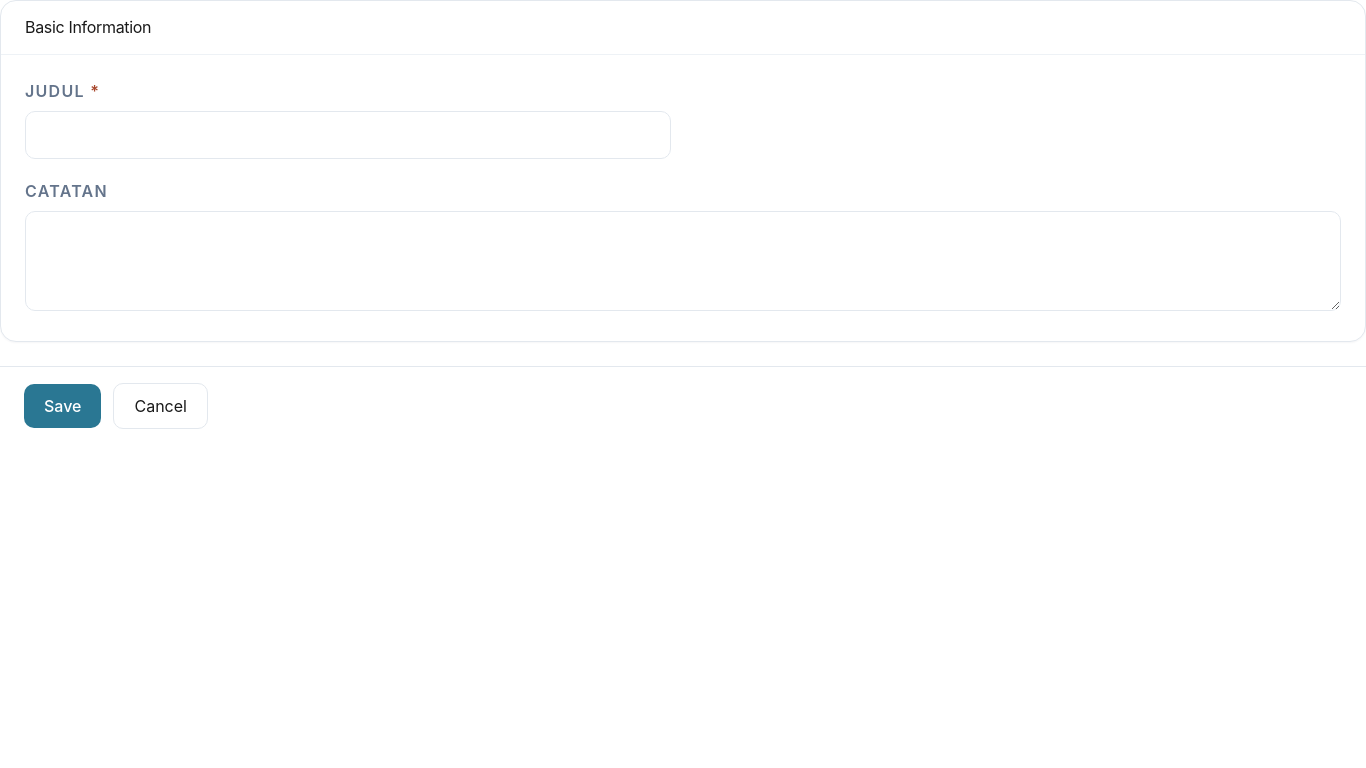
Test: ResourceForm required-field validation › blocks Save, toasts, and lists only the empty required fields when one is missing
This screenshot has width=1366, height=768.
Click the button "Save".
click(63, 406)  # box top-left (24, 384), bottom-right (102, 428)
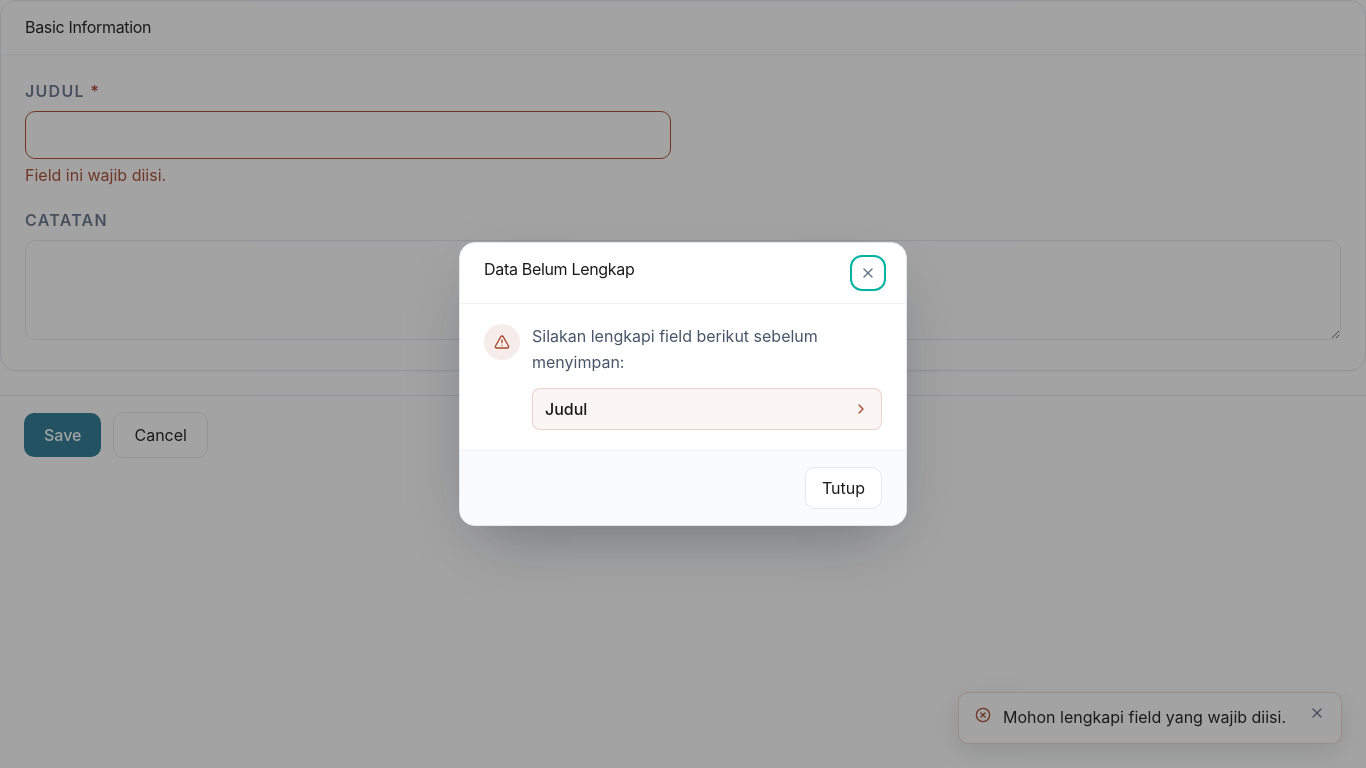
Expected: the text "Mohon lengkapi field yang wajib diisi." is shown, top-left (1003, 705), bottom-right (1297, 731)
Expected: the heading "Data Belum Lengkap" is shown, top-left (484, 259), bottom-right (634, 280)
Expected: the text "Silakan lengkapi field berikut sebelum menyimpan:" is shown, top-left (532, 326), bottom-right (818, 372)
